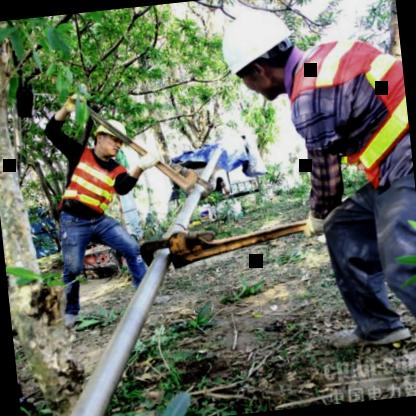helmet: (210, 2, 308, 108), (86, 108, 131, 162)
